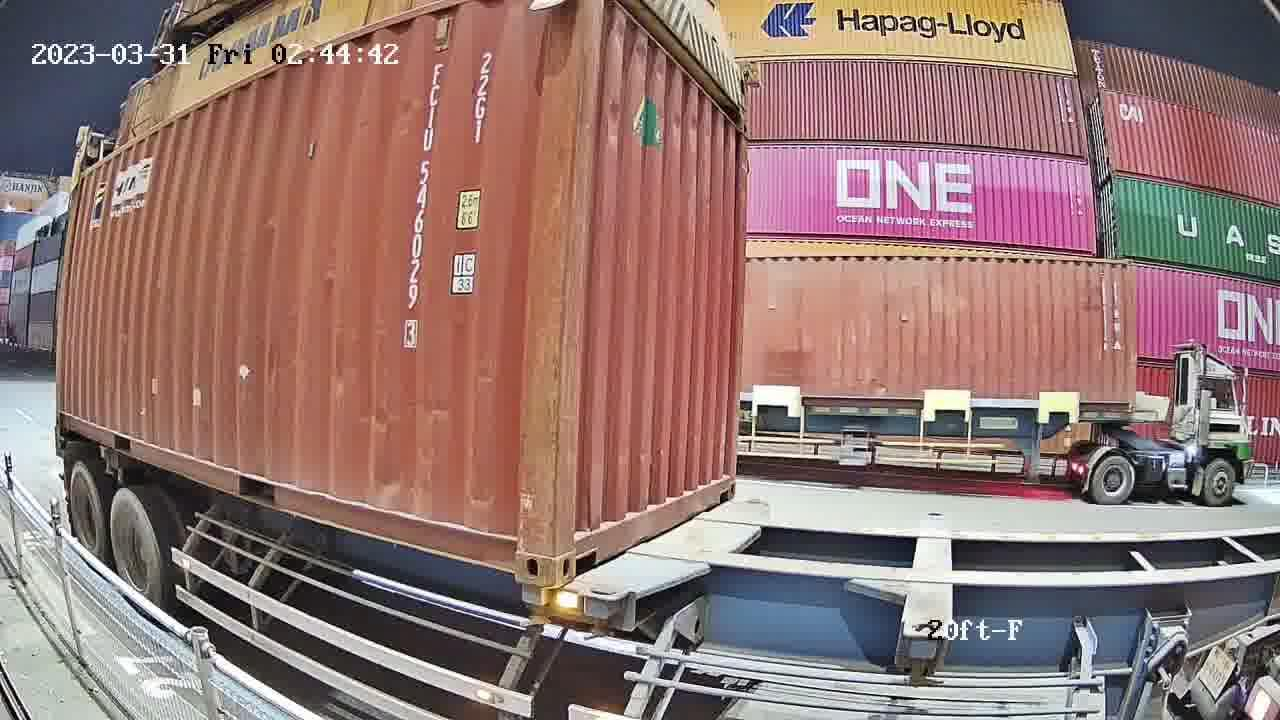Chassis: (583, 501, 769, 601)
Cone: (584, 587, 625, 637), (517, 584, 546, 635)
Hole_L: (551, 513, 596, 588)
Hole_R: (488, 519, 547, 588), (710, 458, 736, 508)
Tire: (110, 490, 162, 613), (70, 464, 105, 560)
